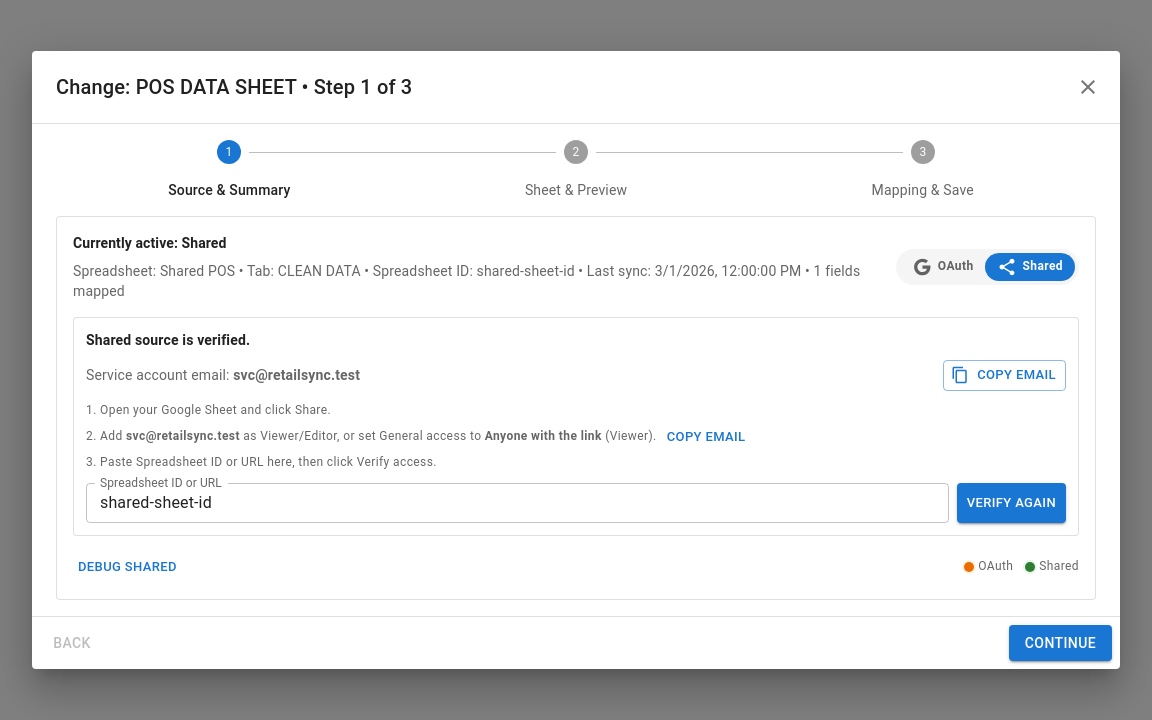
GoogleSheetsSetupInline › shows oauth account from oauth-status when connectedEmail is missing
Click the button with aria-label "OAuth source": (943, 267) [900, 253, 986, 281]
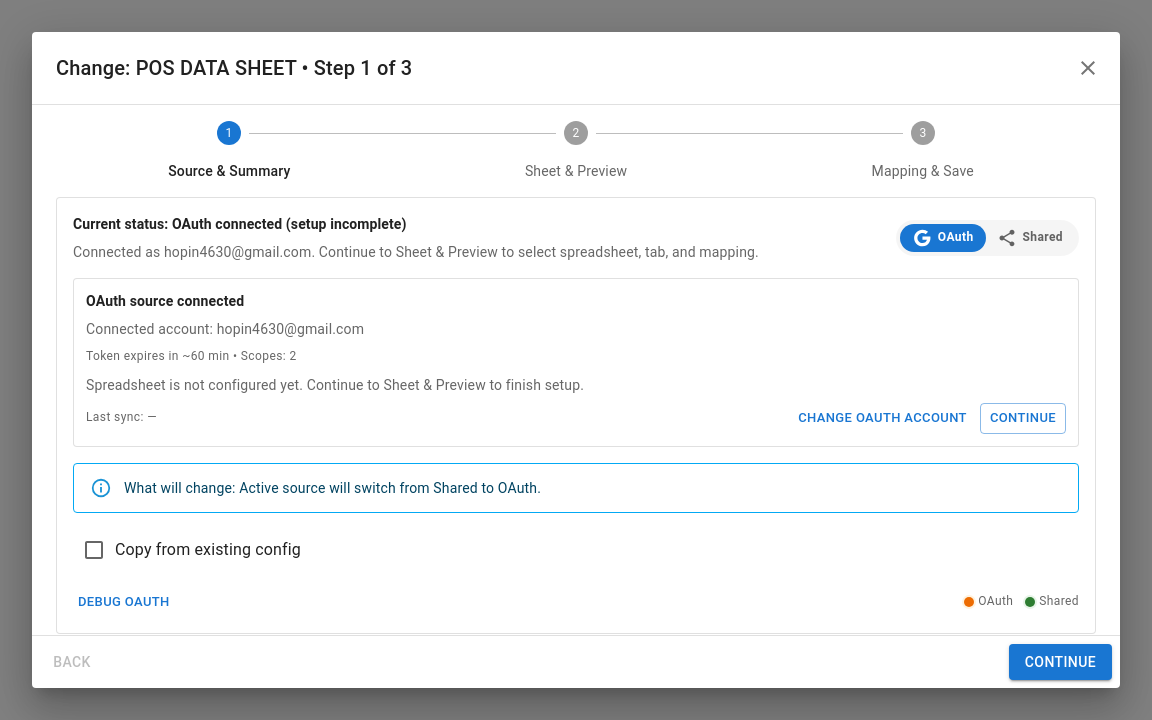
Check: the text "Connected account: hopin4630@gmail.com" is shown, box [86, 321, 364, 337]
